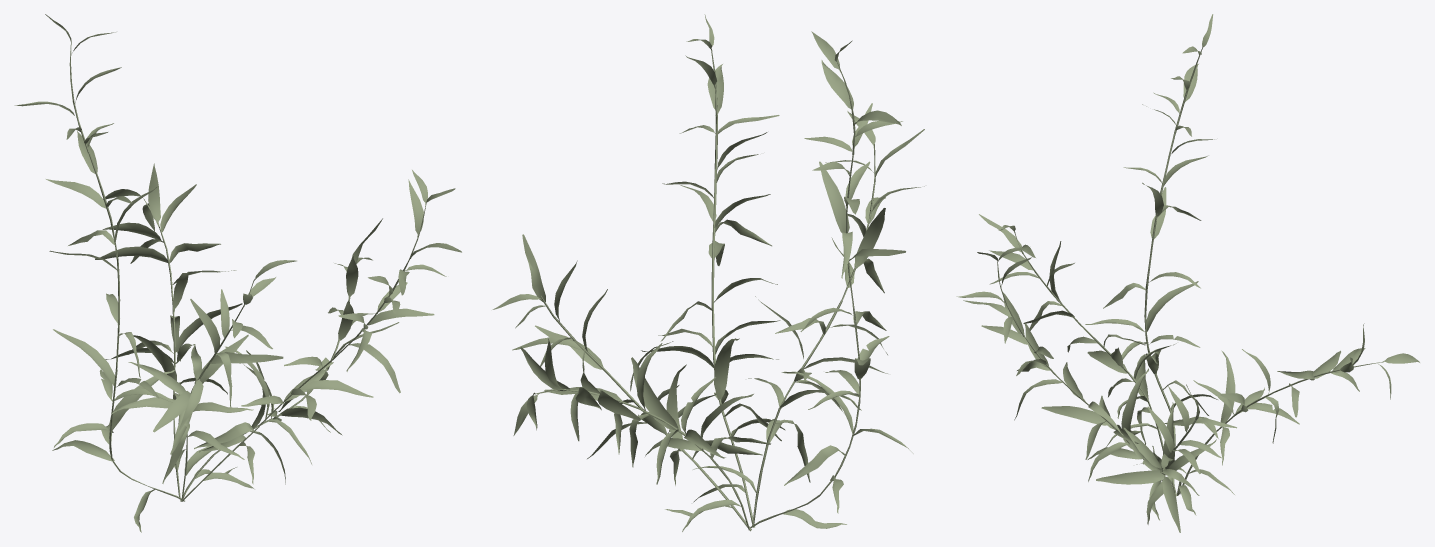
File: shrub-lod2.glb
The picture shows the model from 3 angles, left to right: view 1: azimuth 30°, elevation 25°; view 2: azimuth 150°, elevation 25°; view 3: azimuth 270°, elevation 25°; orthographic projection. The views are drawn at different scales.
Visible parts, largest first — view 1: shrub_02_a; view 2: shrub_02_a; view 3: shrub_02_a.
Boxes of the visible parts, left/top/right/bottom form: shrub_02_a: left=14, top=14, right=461, bottom=532; shrub_02_a: left=492, top=14, right=924, bottom=531; shrub_02_a: left=956, top=14, right=1419, bottom=532.
Size of the model in its own units: 1.31 by 1.69 by 1.64.
